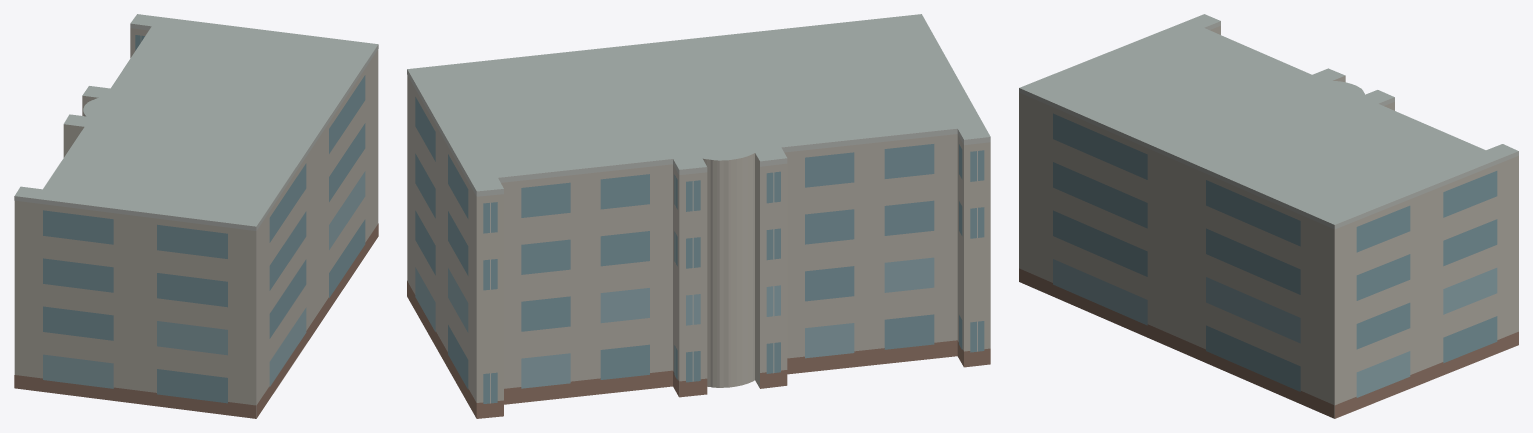
The model's file is survey-upis-32489350.glb.
The picture shows the model from 3 angles, left to right: view 1: azimuth 30°, elevation 25°; view 2: azimuth 150°, elevation 25°; view 3: azimuth 270°, elevation 25°; orthographic projection. The views are drawn at different scales.
Visible parts, largest first — view 1: survey-upis-32489350.tmp; view 2: survey-upis-32489350.tmp; view 3: survey-upis-32489350.tmp.
Boxes of the visible parts, <box> form: survey-upis-32489350.tmp: <box>14,14,378,418</box>; survey-upis-32489350.tmp: <box>407,14,990,418</box>; survey-upis-32489350.tmp: <box>1019,14,1518,418</box>.
Bounding box in the file's own units: 24.32 × 10.42 × 24.34.
